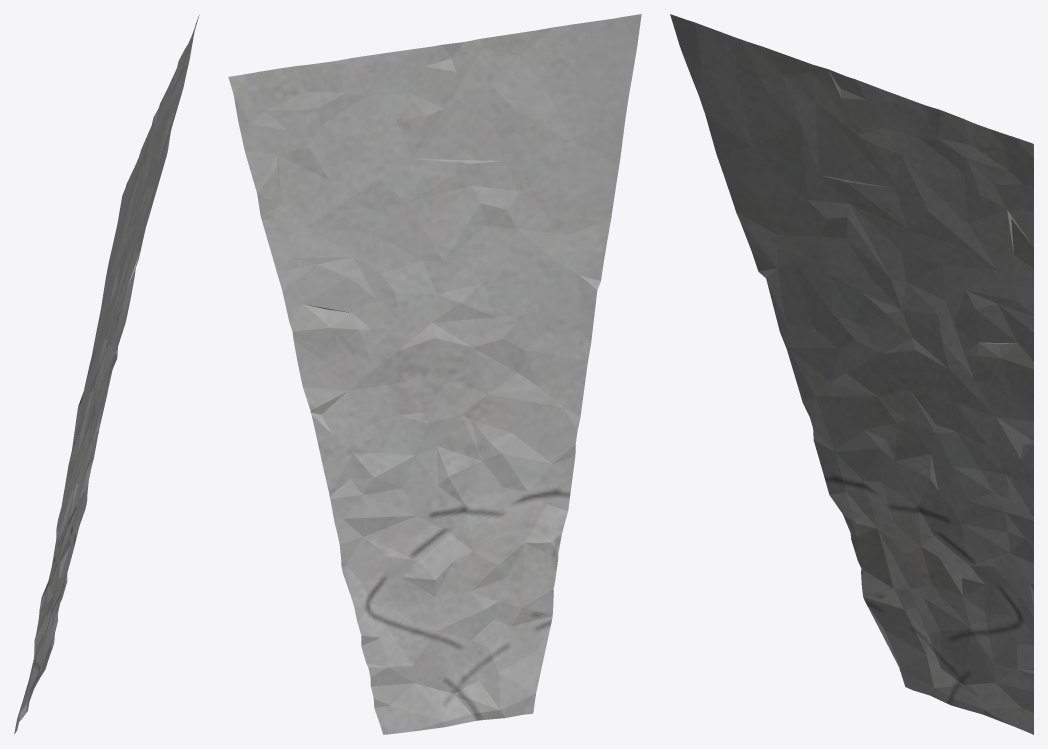
3 renders of one model, left to right at view 1: azimuth 30°, elevation 25°; view 2: azimuth 150°, elevation 25°; view 3: azimuth 270°, elevation 25°, orthographic. The views are drawn at different scales.
Bounding box in the file's own units: 0.347 × 0.8374 × 0.4104.
Materials: 1 (1 with a texture image).
